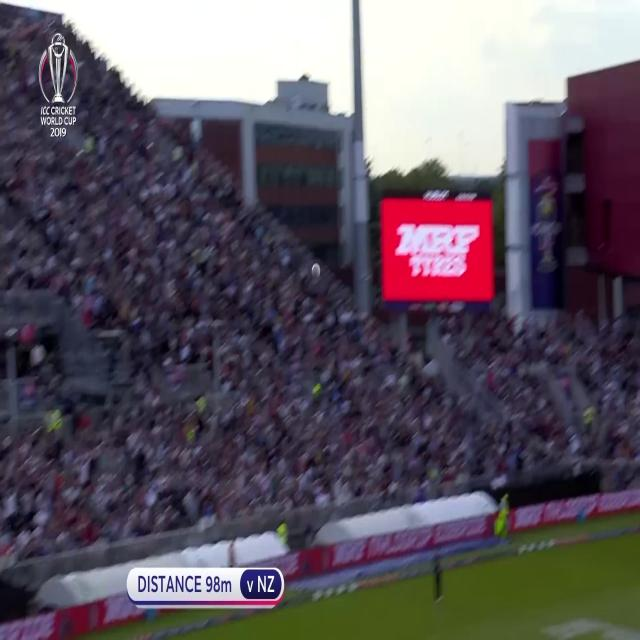ball: (310, 262, 321, 281)
